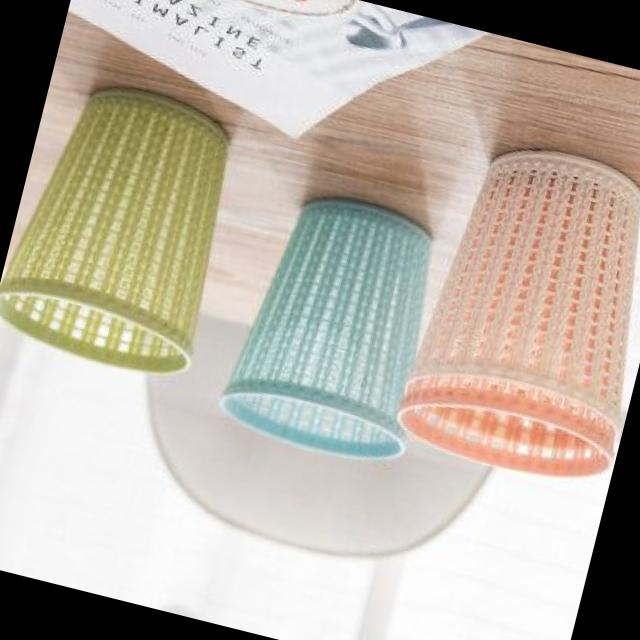dustbin: (386, 119, 640, 498), (0, 59, 265, 395), (210, 172, 468, 476)
